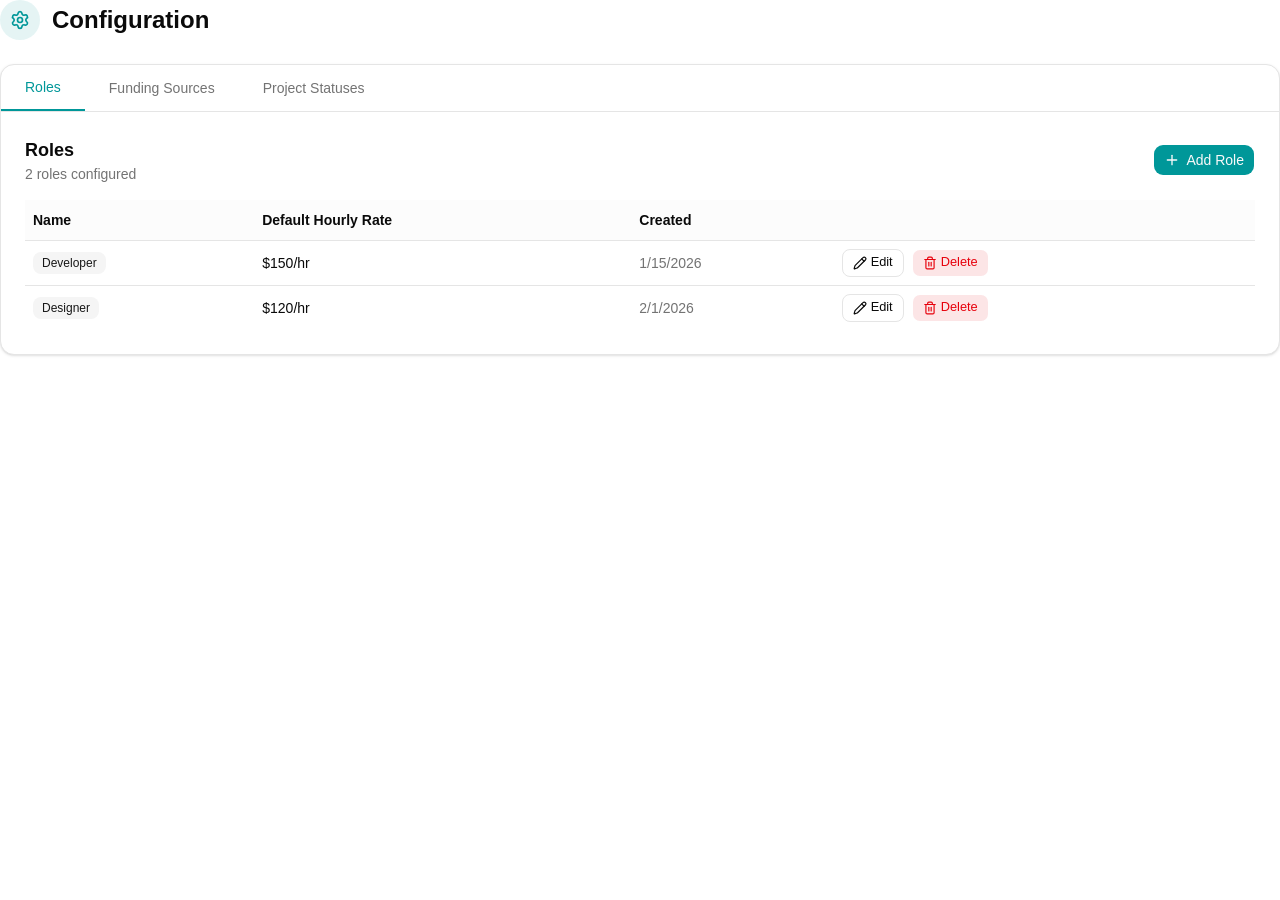
Test: ConfigurationPage › should open edit form when Edit role is clicked
The width and height of the screenshot is (1280, 900).
What coordinates should you click on to do the following:
click the button with test id "role-edit-role-1"
I would click on:
 (873, 262)
Its box is [842,248,904,276].
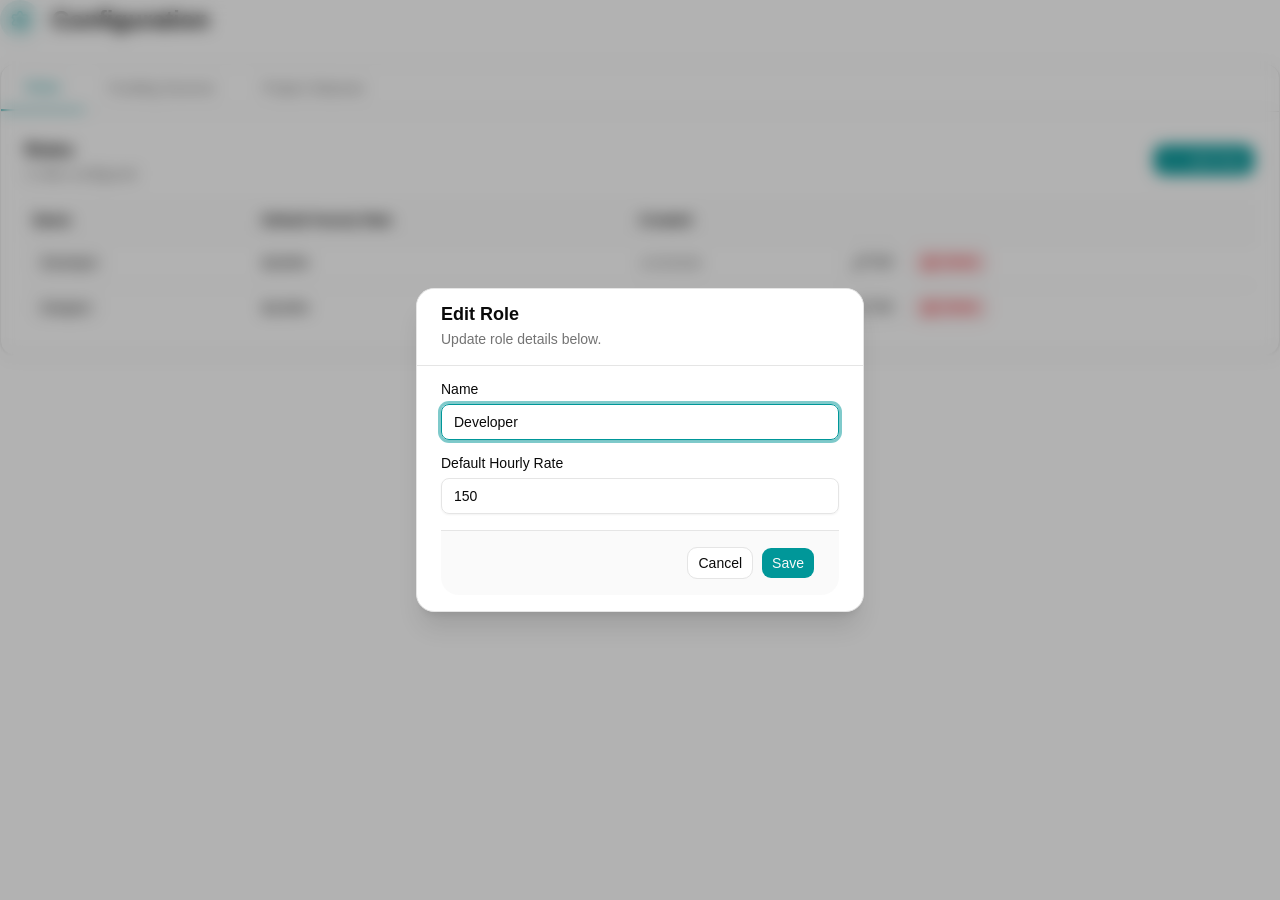
Expected: the heading with test id "role-form-title" reads "Edit Role", [441,304,519,324]
